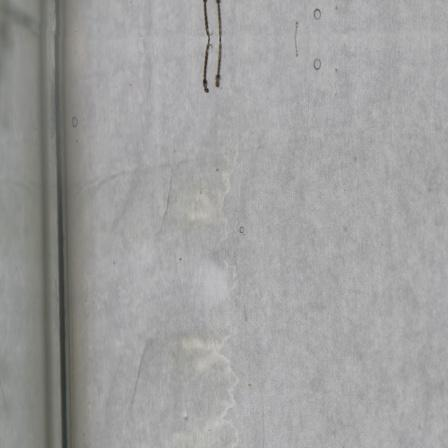Jentik-Nyamuk: (200, 38, 226, 97)
